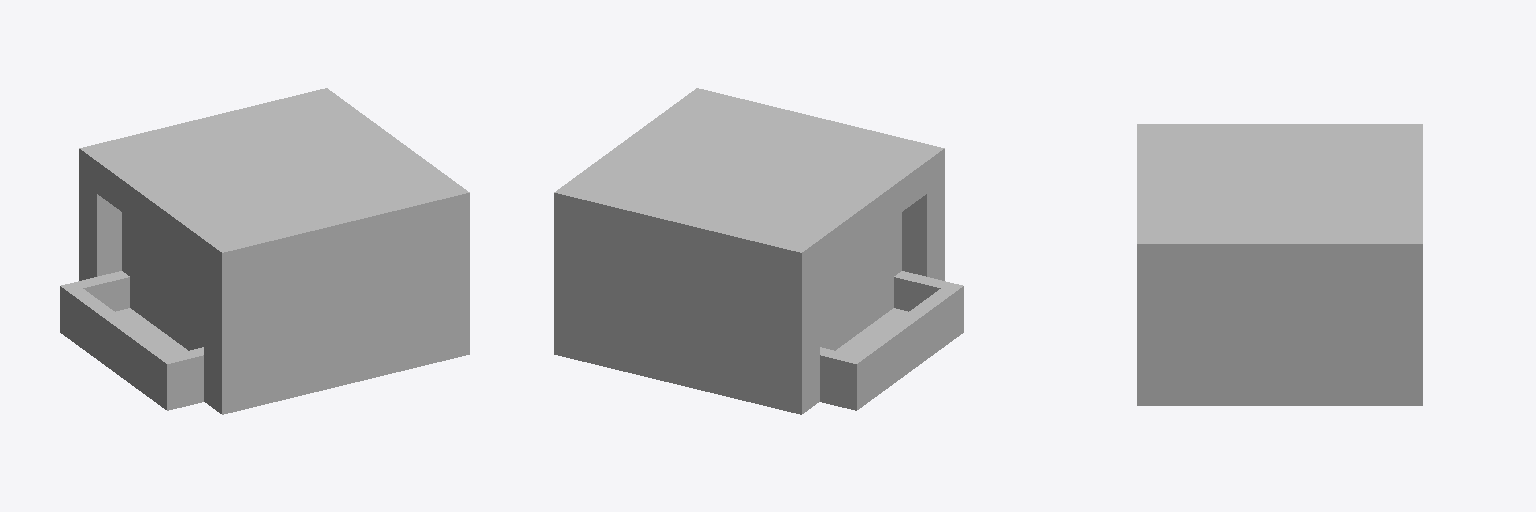
3 renders of one model, left to right at view 1: azimuth 30°, elevation 25°; view 2: azimuth 150°, elevation 25°; view 3: azimuth 270°, elevation 25°, orthographic.
Parts seen in each view (by area): view 1: G-__555933_G-__555933_Brick, G-__555933_G-__555933_Glass; view 2: G-__555933_G-__555933_Brick, G-__555933_G-__555933_Glass; view 3: G-__555933_G-__555933_Brick.
Part boxes in pixels (x1,y1,x2,y2): G-__555933_G-__555933_Brick: (60, 88, 469, 414); G-__555933_G-__555933_Glass: (122, 212, 203, 350); G-__555933_G-__555933_Brick: (554, 88, 963, 414); G-__555933_G-__555933_Glass: (820, 212, 901, 350); G-__555933_G-__555933_Brick: (1137, 124, 1422, 405).
Size of the model in its own units: 1.15 by 0.625 by 1.